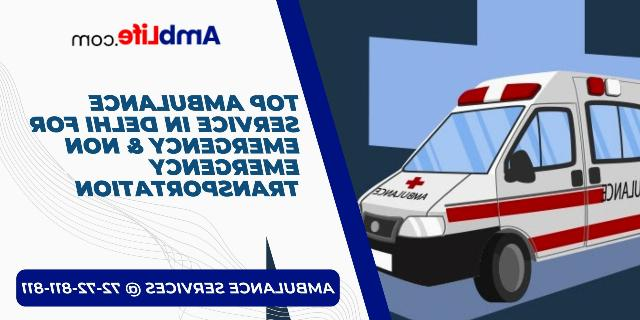ambulance: (359, 71, 640, 302)
